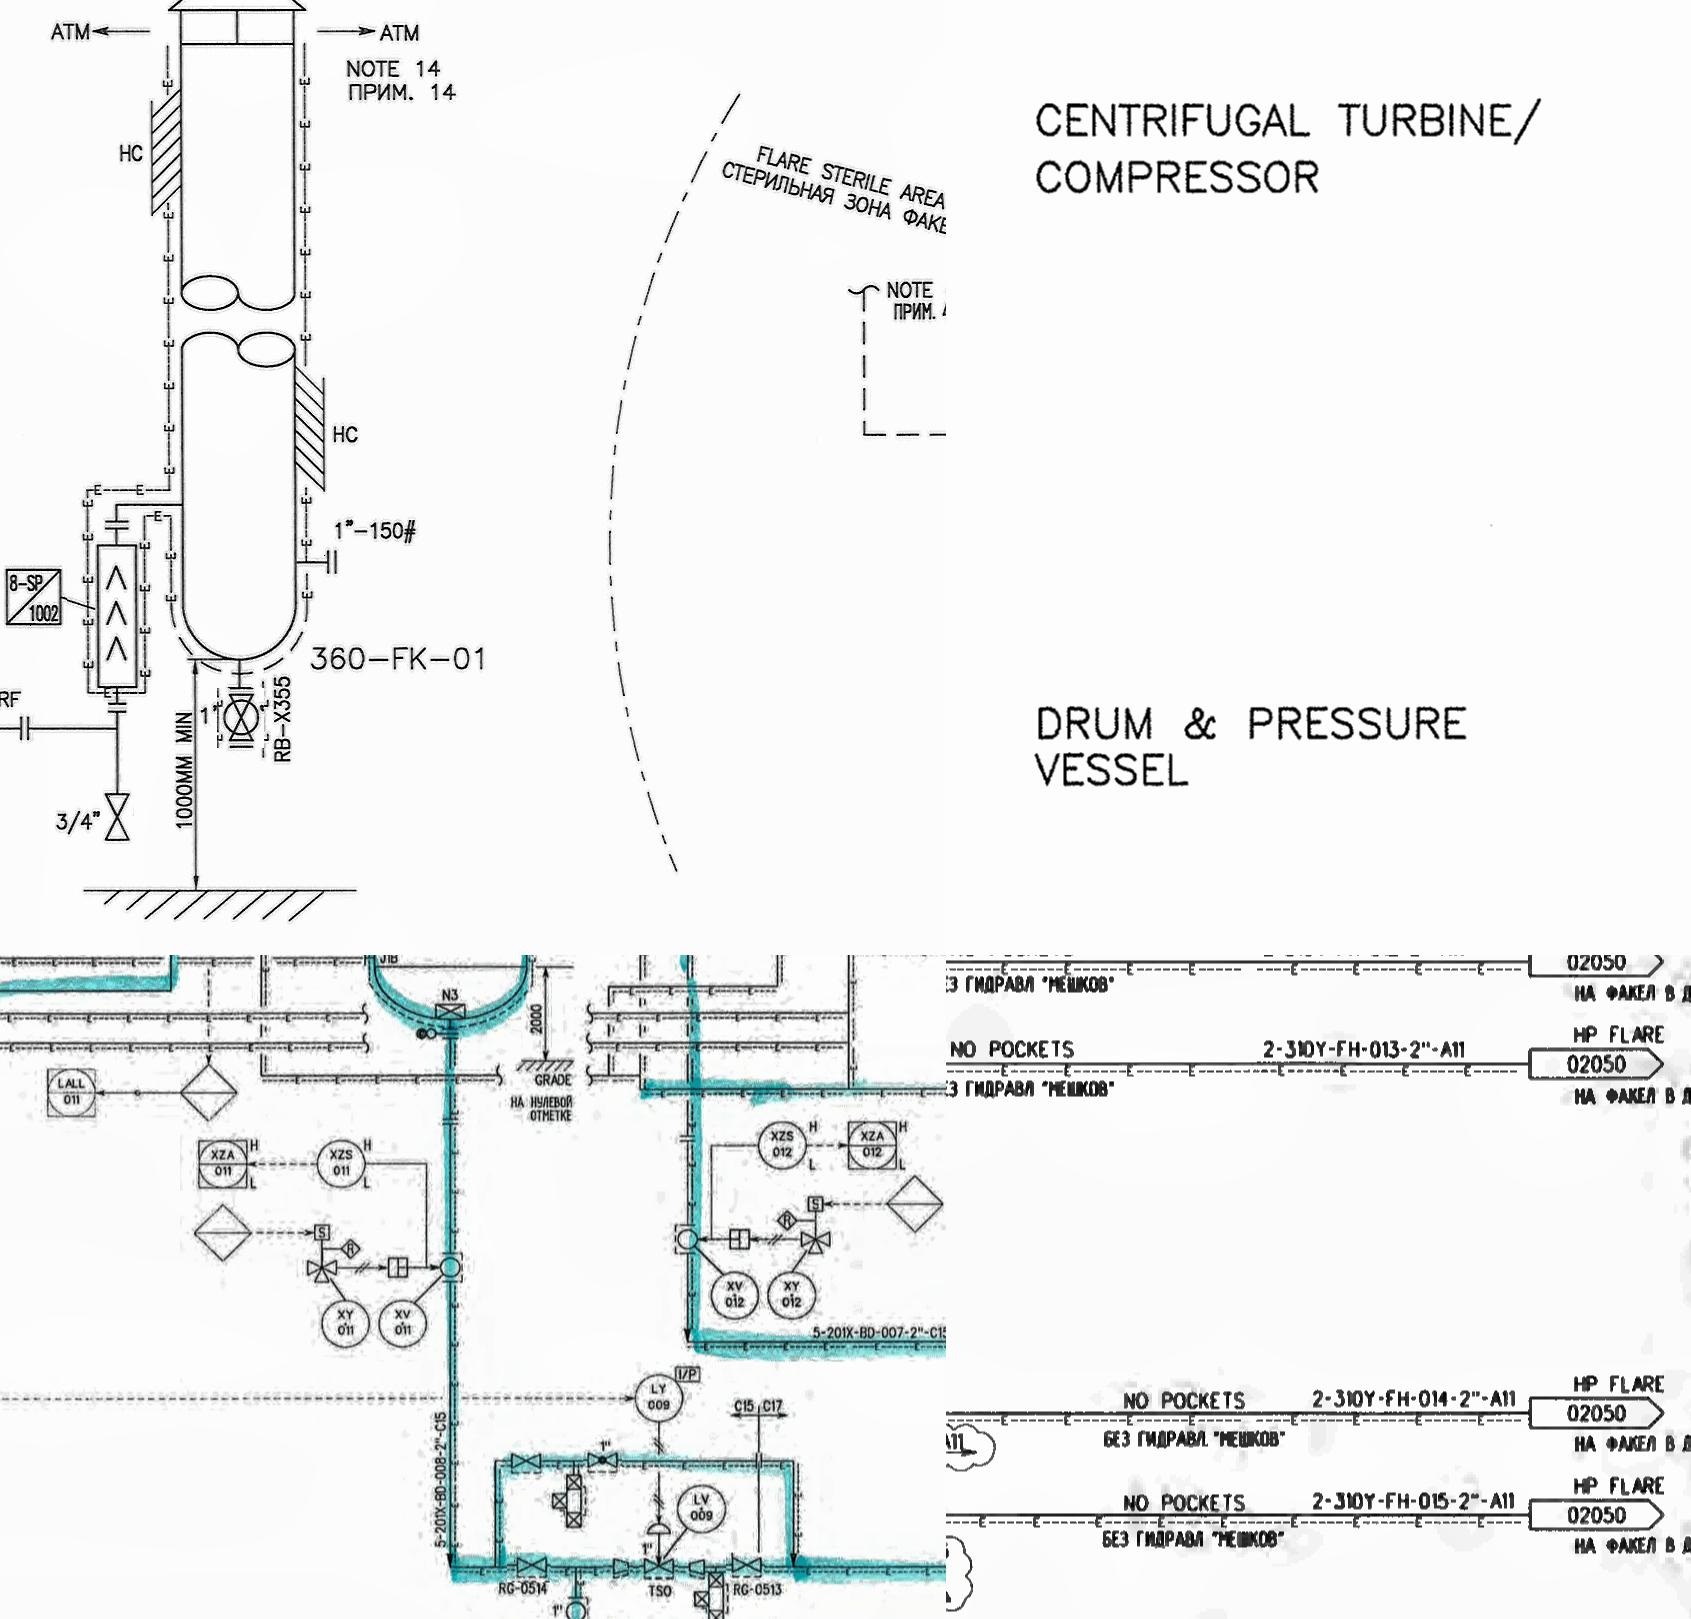2 WAY VALVE: (548, 1469, 592, 1537), (691, 1571, 731, 1619)
3 WAY GENERAL VALVE: (300, 1257, 346, 1285), (799, 1228, 836, 1258)
BALL VALVE: (217, 689, 264, 749)
CONCENTRIC REDUCER: (602, 1551, 633, 1584), (687, 1553, 708, 1580)
DCS ACCESSIBLE: (39, 1063, 107, 1128), (193, 1131, 254, 1198), (842, 1112, 904, 1170)
DIAPHRAGM ACTUATED VALVE: (639, 1519, 678, 1580)
END FLANGED: (317, 541, 344, 584), (100, 507, 134, 535), (104, 695, 131, 720), (20, 707, 32, 748)
FIELD INSTRUMENT: (670, 1483, 735, 1533), (758, 1112, 808, 1173), (628, 1370, 687, 1421), (374, 1297, 427, 1352), (316, 1137, 368, 1190), (767, 1270, 821, 1318), (711, 1267, 761, 1317), (320, 1299, 370, 1347), (669, 1223, 705, 1260), (435, 1252, 464, 1285), (562, 1595, 590, 1619)
GATE VALVE: (101, 787, 136, 846), (507, 1553, 551, 1584), (728, 1553, 765, 1583), (504, 1448, 544, 1477)
GLOBE VALVE: (583, 1447, 622, 1474)
HARDWIRED INTERLOCK PRIMARY.: (187, 1202, 258, 1267), (883, 1170, 947, 1238), (177, 1057, 239, 1125), (772, 1207, 802, 1231), (340, 1238, 364, 1260)
IP CONVERTER: (666, 1359, 708, 1386)
REVISION TRIANGLE: (947, 1562, 959, 1608)
SPECIAL PIPING ITEM: (0, 562, 66, 634)
SPECTACLE BLIND OPEN: (408, 1019, 470, 1047)
SPEED FLOW METER: (306, 1217, 332, 1244), (803, 1190, 829, 1216)
